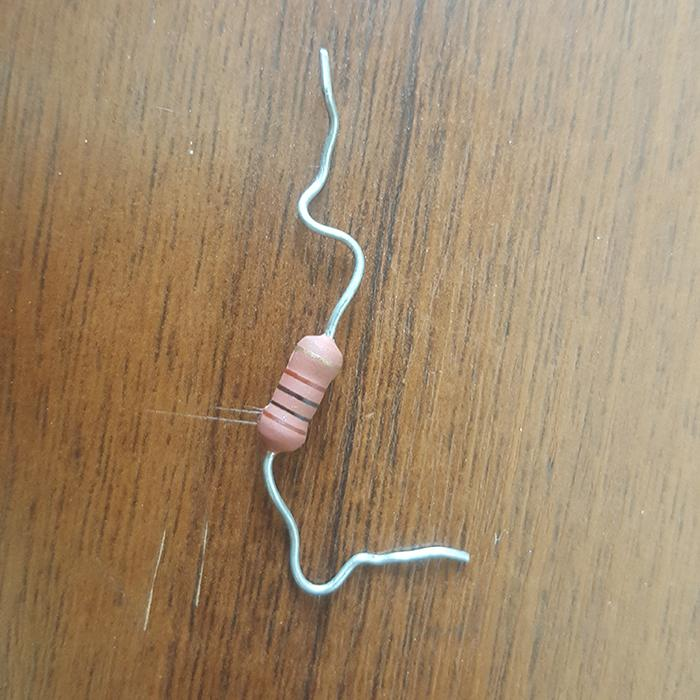resistor: (257, 330, 344, 453)
